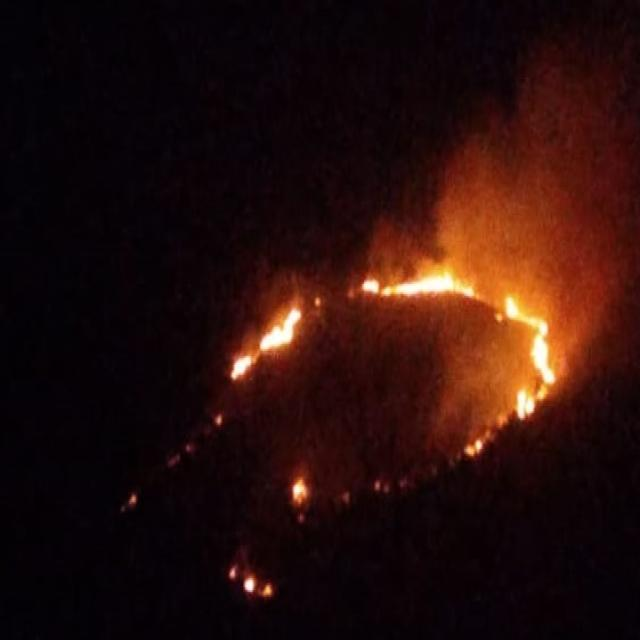Fire: (504, 290, 559, 422), (228, 306, 304, 379), (360, 272, 474, 304), (292, 472, 307, 502)
Smoke: (248, 38, 636, 449)
